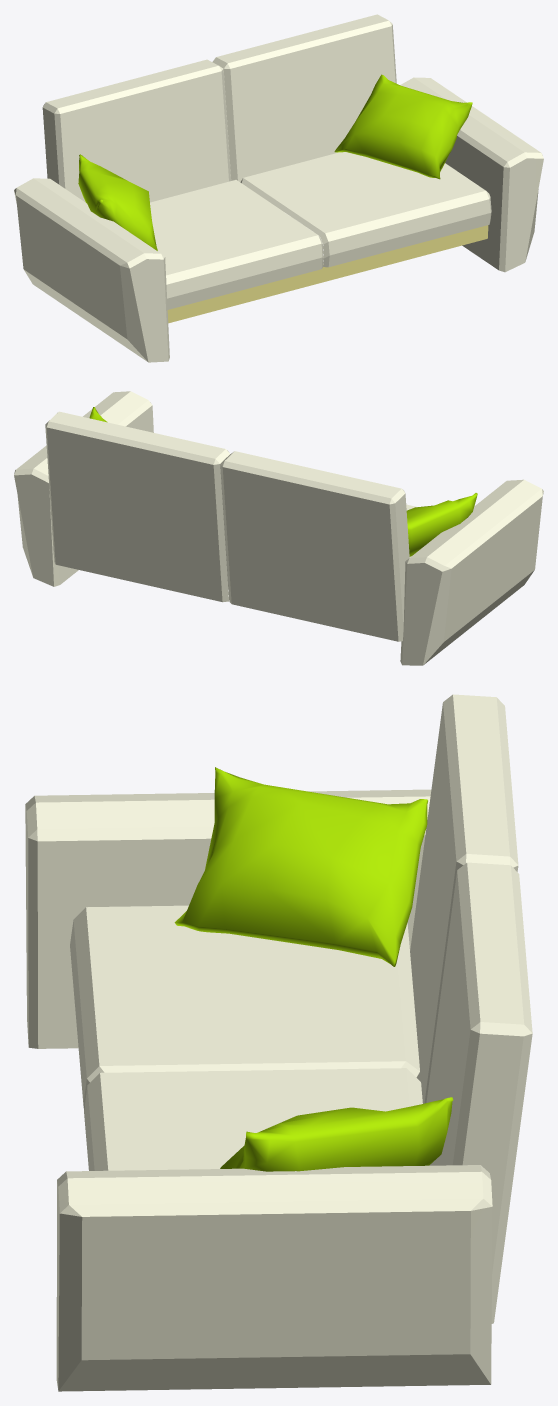
Rendered from Sofa1.fbx.
The picture shows the model from 3 angles, top to bottom: view 1: azimuth 30°, elevation 25°; view 2: azimuth 150°, elevation 25°; view 3: azimuth 270°, elevation 25°; orthographic projection. The views are drawn at different scales.
Visible parts, largest first — view 1: Sofa1; view 2: Sofa1; view 3: Sofa1.
Part boxes in pixels (<box>): Sofa1: <box>14,14,543,362</box>; Sofa1: <box>14,391,543,665</box>; Sofa1: <box>25,694,532,1391</box>.
Bounding box in the file's own units: 86.53 × 33.33 × 43.82.
